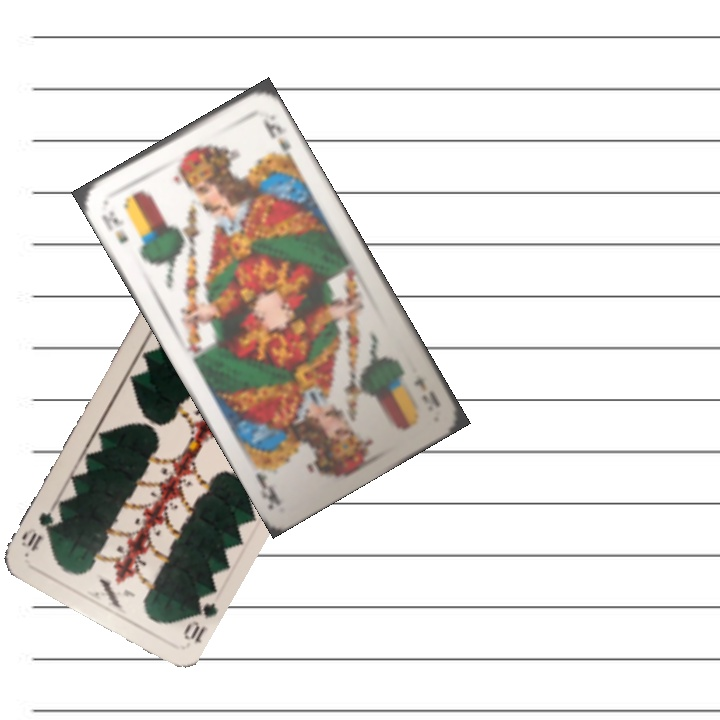EK: (97, 207, 131, 247), (409, 374, 443, 410)
G10: (179, 590, 220, 646)
